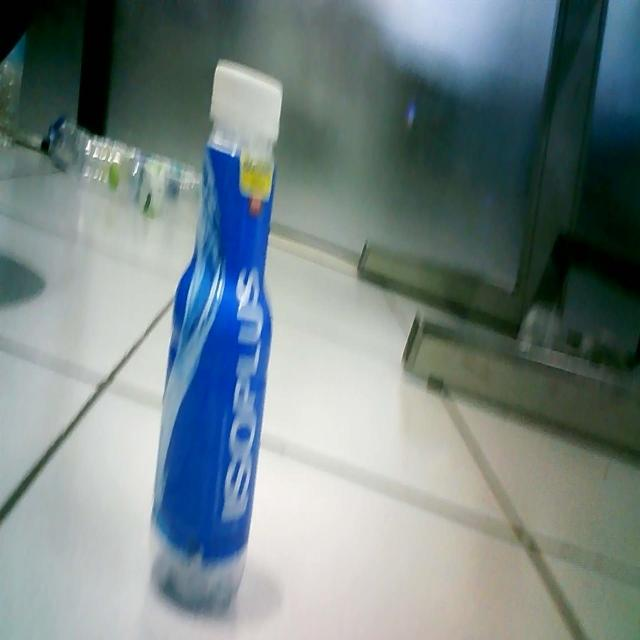botol: (142, 37, 285, 618)
